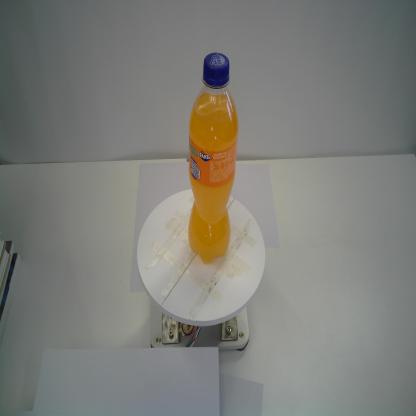Drink: (187, 49, 239, 266)
